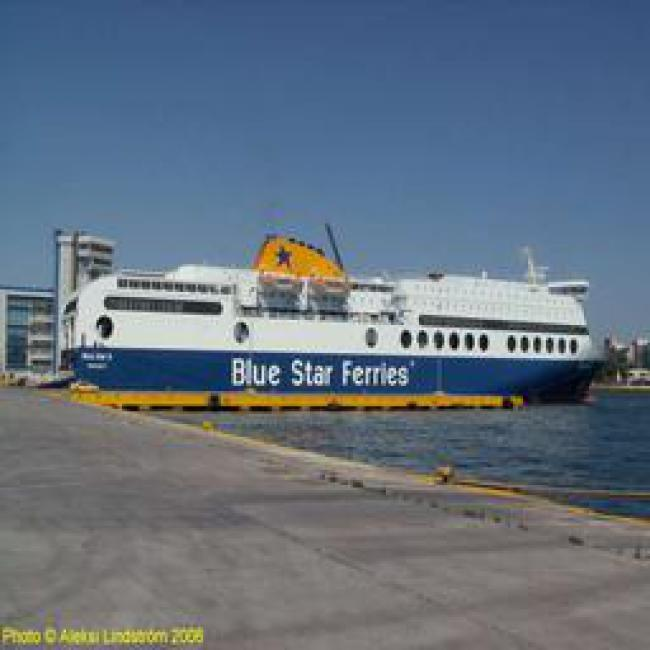Ship: (68, 275, 599, 411)
